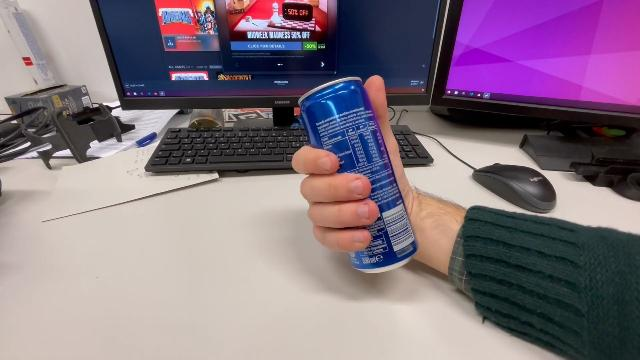Pepsi: (296, 75, 420, 275)
